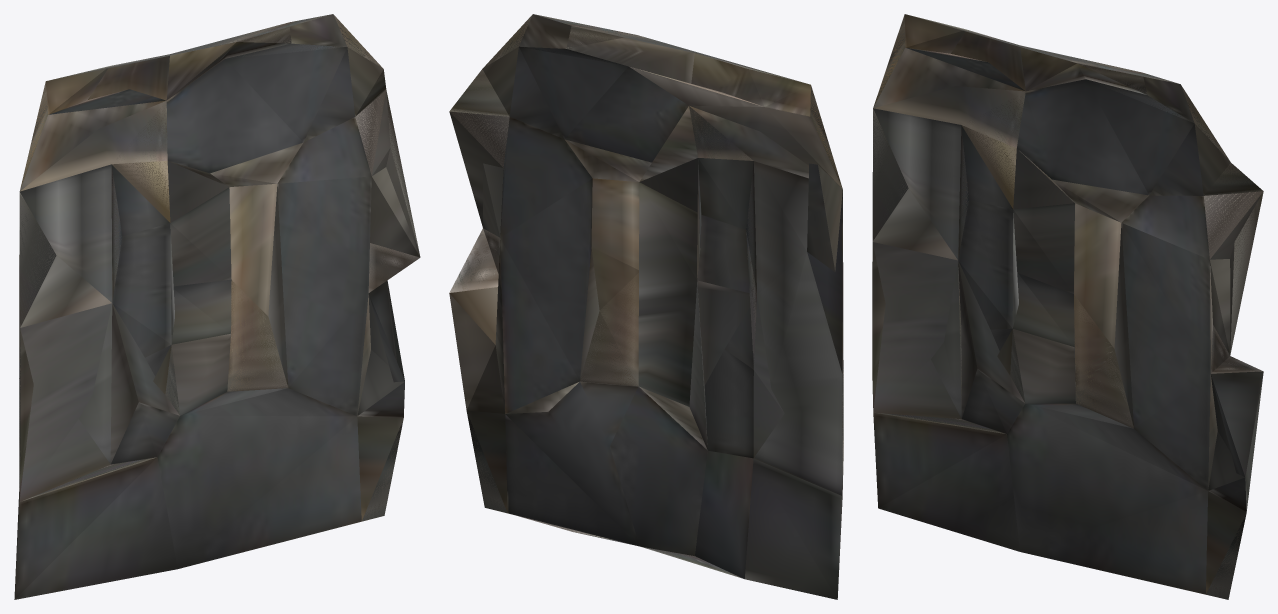
File: imperial_city_gate__gate_right_lod2.glb
3 renders of one model, left to right at view 1: azimuth 30°, elevation 25°; view 2: azimuth 150°, elevation 25°; view 3: azimuth 330°, elevation 25°, orthographic. The views are drawn at different scales.
Parts seen in each view (by area): view 1: mesh_node; view 2: mesh_node; view 3: mesh_node.
Part boxes in pixels (x1,y1,x2,y2): mesh_node: [14, 14, 420, 599]; mesh_node: [449, 14, 843, 599]; mesh_node: [872, 14, 1263, 599].
Bounding box in the file's own units: 3.55 × 4.55 × 0.5486.
1 material, 1 textured.
